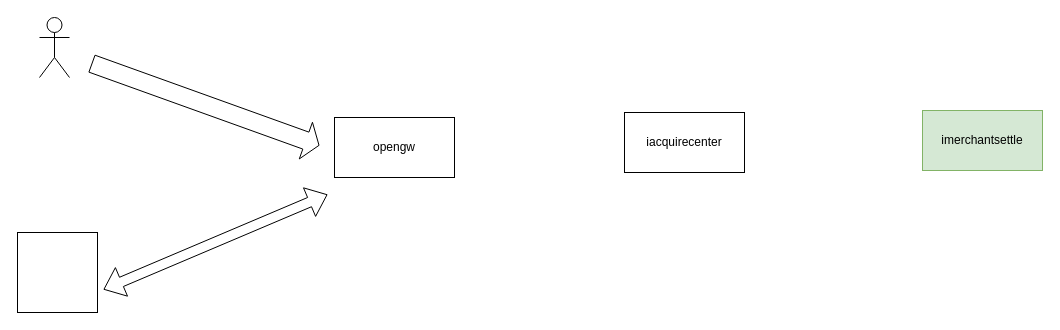
The diagram is 1060 pixels wide and 330 high, and some of its shapes have lost their labels. Here are the shapes that lost their labels. From the top down, the centre of each, then its label:
(x=54, y=47): user
(x=57, y=272): 机构
